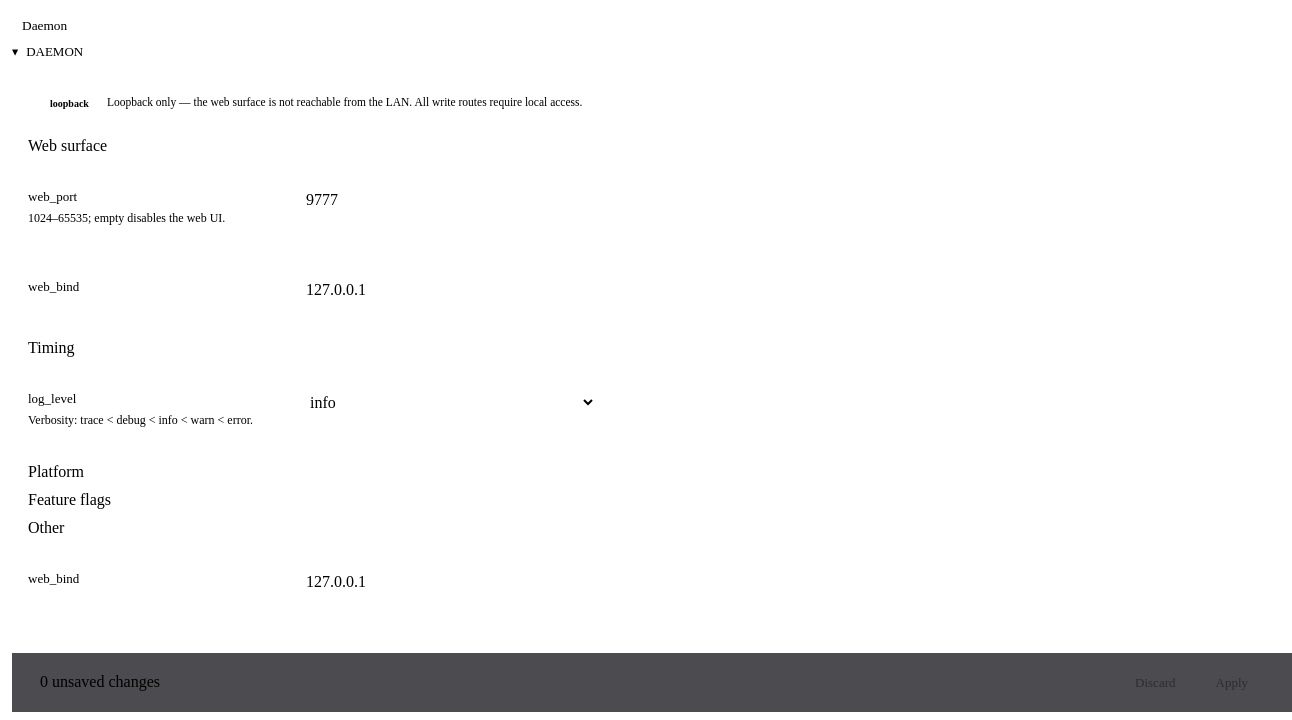
Test case: SettingsForm › pending — immediate refetch, neutral banner
Expected: the heading "Daemon" is shown, left=26, top=44, right=83, bottom=60
Select "debug" in the dropdown labelled "log_level". click: [446, 402]
box: left=296, top=386, right=596, bottom=418
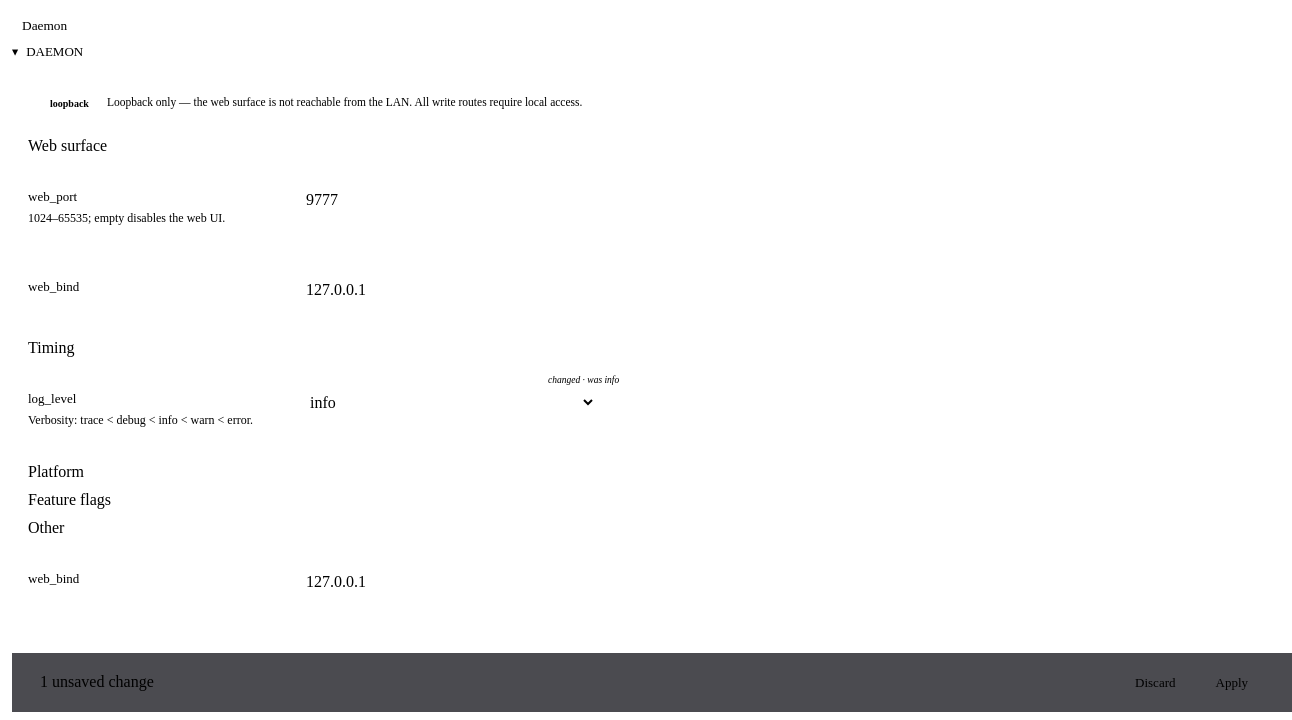
Expected: the text "1 unsaved change" is shown, left=40, top=673, right=154, bottom=691
Click the button "Apply". click: [1232, 682]
box: left=1200, top=666, right=1264, bottom=698
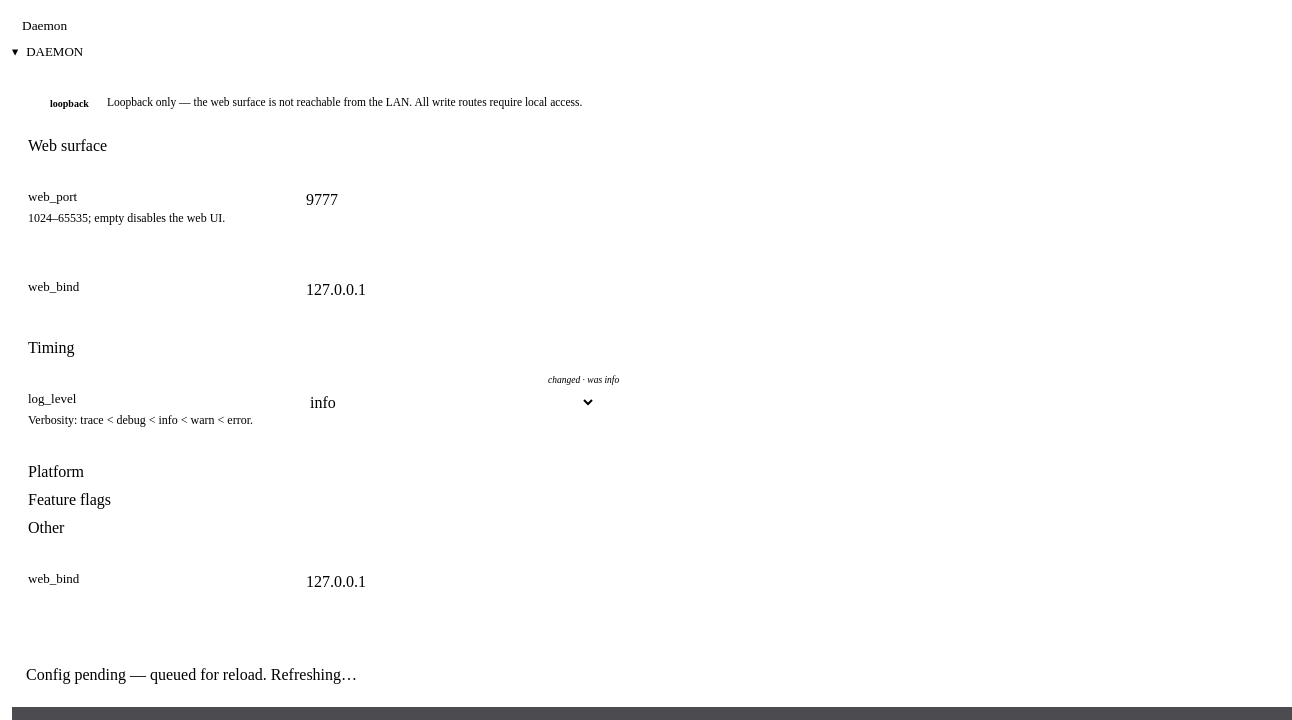
Expected: the text "Config pending — queued for reload. Refreshing…" is shown, left=26, top=666, right=357, bottom=682
